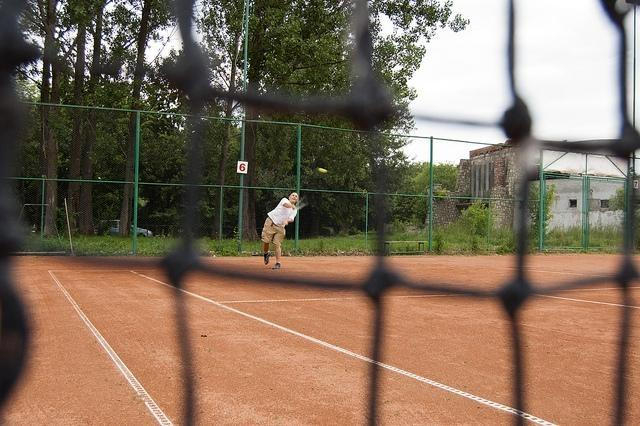car: (110, 220, 154, 238)
